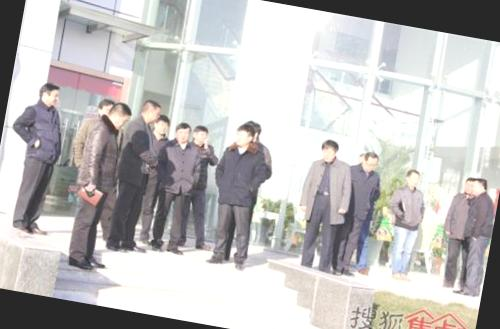no_helmet: (34, 76, 67, 111), (313, 134, 346, 168), (102, 96, 132, 129), (399, 164, 427, 194), (136, 96, 162, 127), (169, 116, 195, 147), (356, 147, 382, 176), (232, 122, 255, 151), (190, 122, 213, 150), (149, 111, 173, 136), (469, 172, 490, 199), (94, 94, 114, 118), (458, 174, 475, 197)
